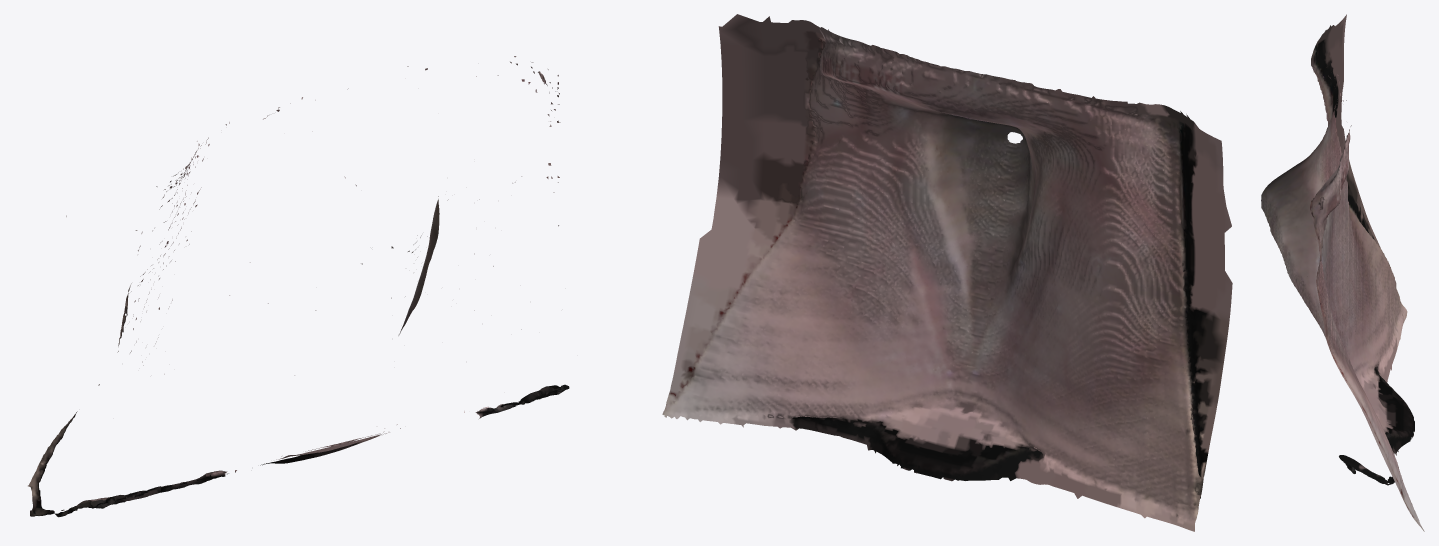
The picture shows the model from 3 angles, left to right: view 1: azimuth 30°, elevation 25°; view 2: azimuth 150°, elevation 25°; view 3: azimuth 270°, elevation 25°; orthographic projection. The views are drawn at different scales.
Bounding box in the file's own units: 0.00151 × 0.00104 × 0.000489.
